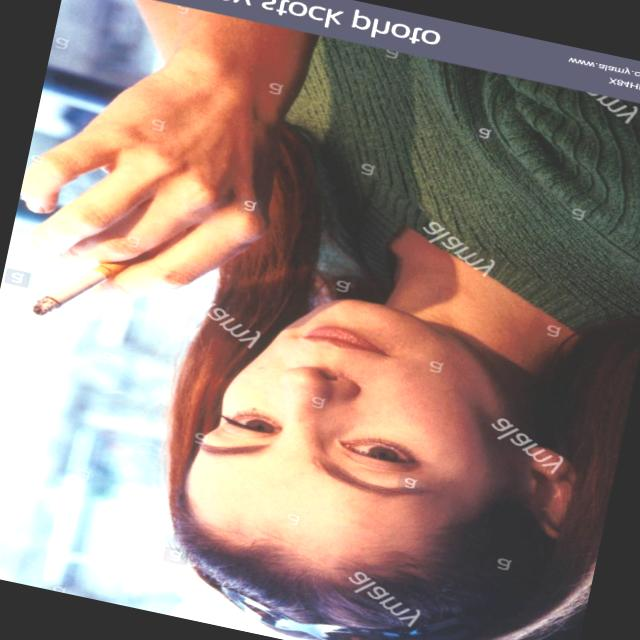cigarette: (17, 226, 161, 348)
